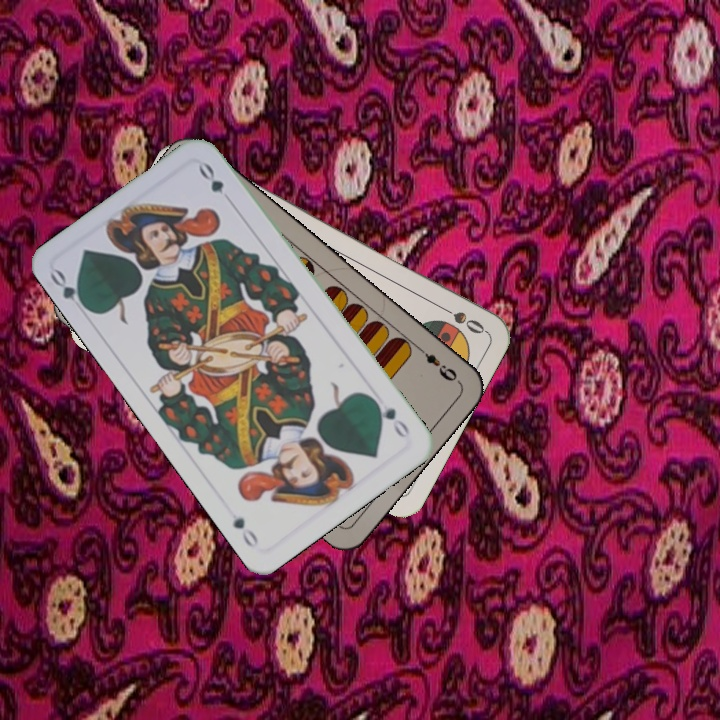E9: (413, 342, 460, 385)
GO: (46, 265, 93, 314), (368, 394, 412, 442)
SO: (433, 300, 488, 337)
